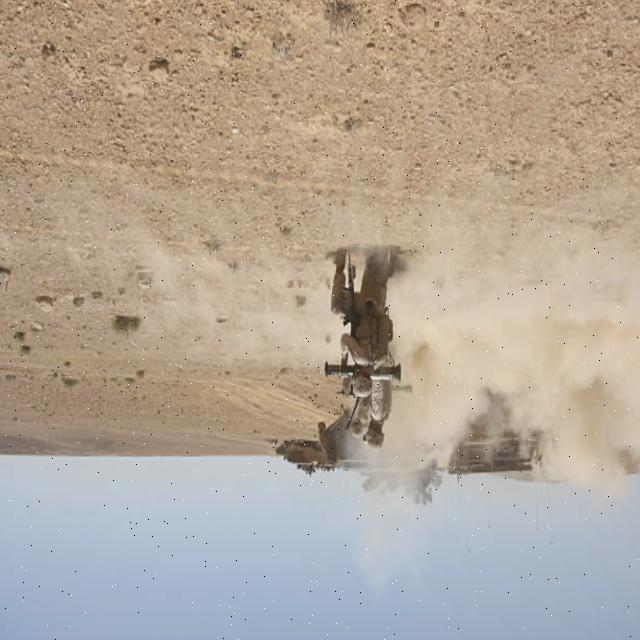bazooka: (324, 358, 404, 384)
